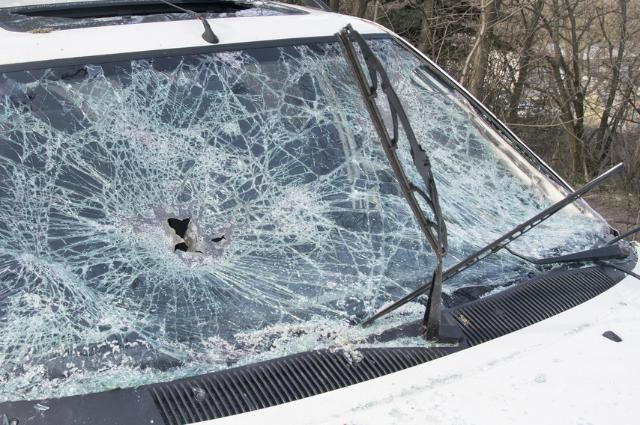Windshield: (4, 48, 559, 347)
